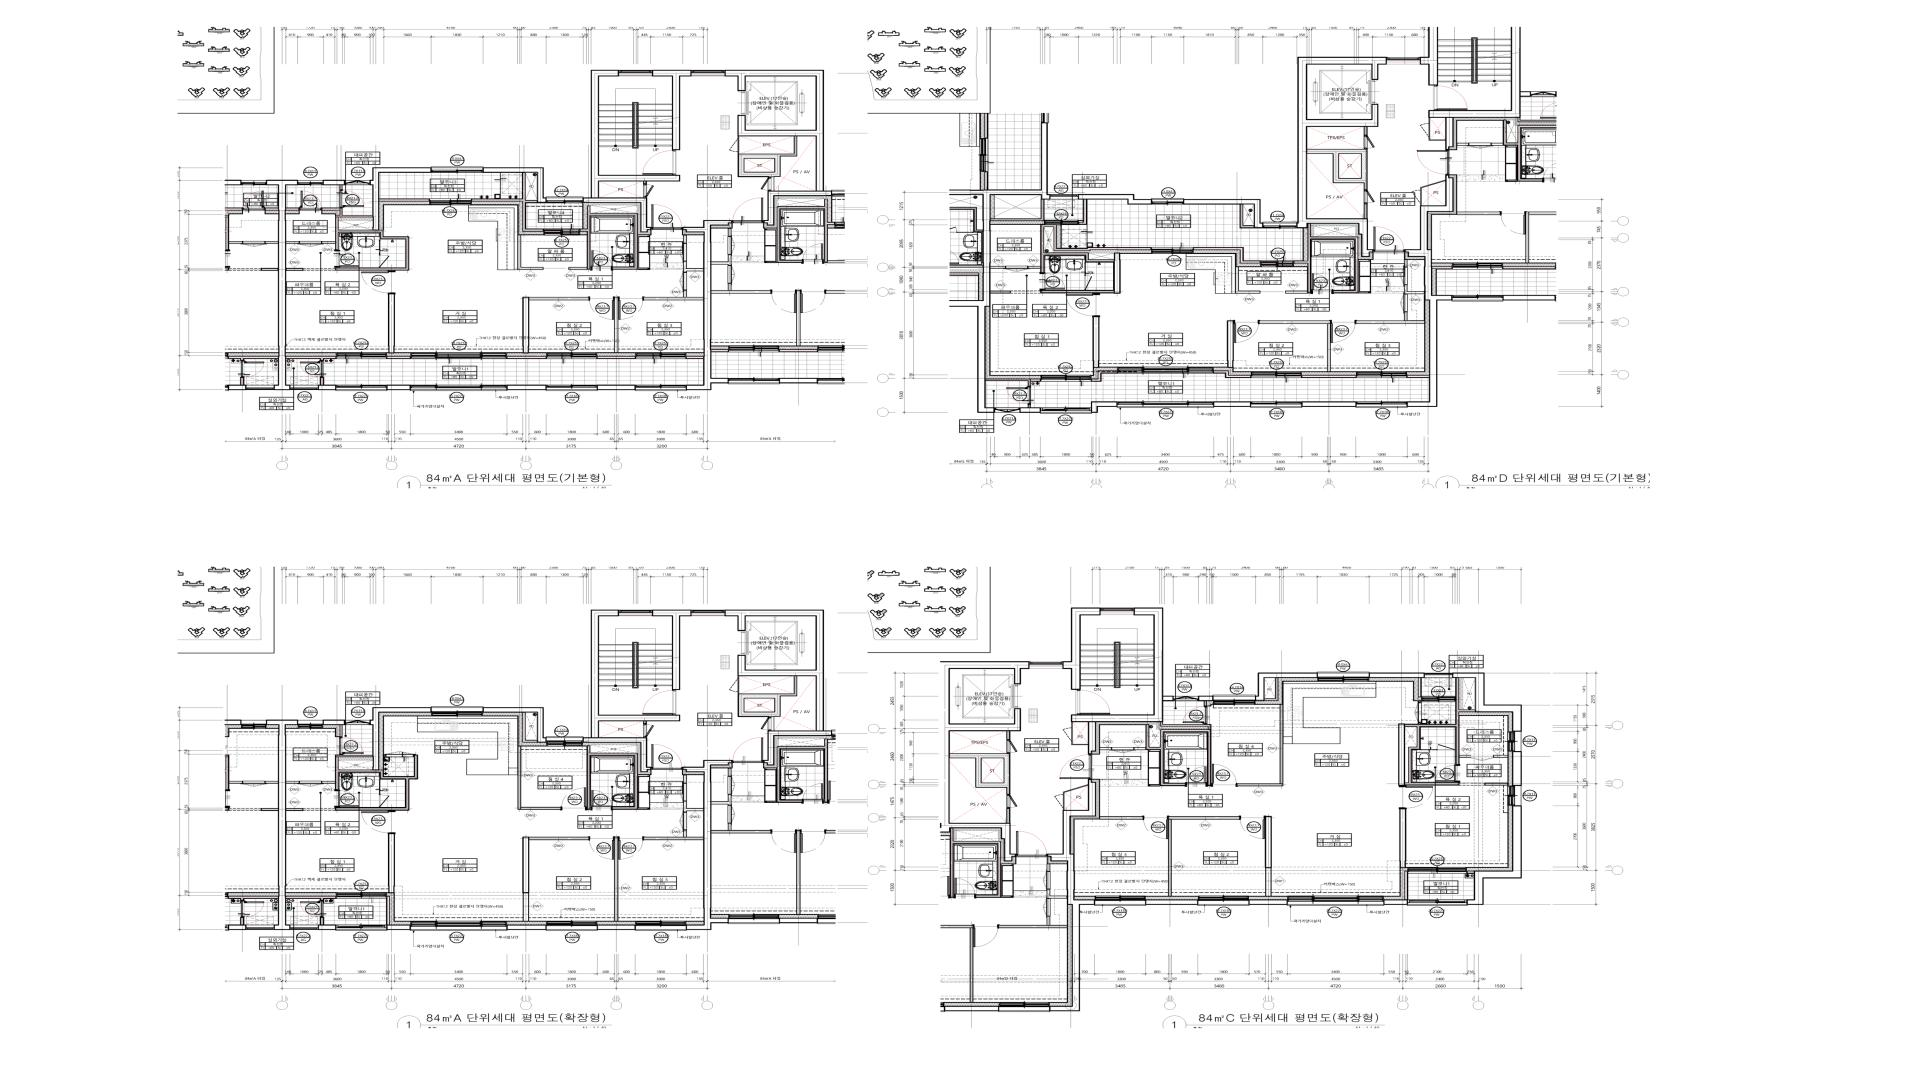door: (1433, 85, 1468, 110), (1076, 689, 1110, 714), (642, 150, 676, 175), (652, 742, 682, 770), (642, 691, 676, 715), (651, 204, 682, 230), (361, 811, 396, 834), (1067, 293, 1100, 317), (1399, 786, 1433, 809), (361, 271, 395, 294), (1374, 226, 1404, 252), (1060, 755, 1092, 779), (1234, 320, 1260, 344), (589, 836, 614, 860), (618, 837, 644, 860), (1212, 764, 1238, 787), (618, 297, 644, 320), (589, 297, 615, 320), (1331, 320, 1357, 343), (1240, 816, 1265, 839), (1143, 816, 1168, 839), (562, 788, 586, 810), (1435, 764, 1461, 783), (1185, 766, 1208, 787), (339, 189, 364, 208), (1006, 386, 1031, 405), (591, 250, 613, 271), (1311, 273, 1333, 294), (339, 737, 364, 755), (334, 250, 359, 268), (1039, 273, 1065, 290), (300, 190, 321, 211), (334, 790, 359, 807), (1183, 707, 1208, 724), (591, 790, 612, 810), (300, 361, 324, 377), (300, 901, 323, 917), (643, 182, 655, 198), (1414, 701, 1422, 724), (729, 676, 739, 694), (729, 136, 739, 154), (643, 721, 654, 737), (1364, 190, 1375, 204), (1364, 135, 1375, 149), (1006, 740, 1017, 753), (299, 781, 322, 787), (299, 241, 322, 247), (379, 795, 390, 807), (1471, 755, 1493, 761), (1112, 747, 1134, 753), (1006, 266, 1028, 272), (761, 717, 771, 730), (379, 255, 389, 267), (1437, 744, 1455, 750), (1085, 275, 1092, 290)
wall: (1297, 57, 1387, 257), (940, 662, 1029, 861), (725, 70, 832, 226), (725, 610, 832, 766), (977, 191, 1050, 413), (583, 70, 680, 232), (583, 610, 680, 772), (1071, 608, 1174, 755), (1428, 3, 1521, 150), (1404, 175, 1454, 407), (682, 760, 733, 930), (683, 220, 733, 390), (1405, 678, 1475, 786), (266, 180, 298, 390), (266, 720, 298, 930), (1047, 779, 1096, 905), (1168, 816, 1240, 896), (523, 837, 590, 921), (1467, 806, 1522, 905), (1040, 225, 1152, 273), (335, 755, 418, 811), (1294, 224, 1359, 294), (471, 173, 544, 232), (1452, 673, 1522, 732), (1146, 725, 1212, 786), (335, 217, 409, 271), (369, 168, 432, 231), (369, 707, 432, 770), (580, 205, 638, 270), (522, 297, 589, 353), (1237, 705, 1283, 786), (1260, 321, 1331, 372), (586, 746, 638, 810), (652, 70, 692, 150), (652, 610, 692, 690), (1062, 608, 1101, 690), (1420, 3, 1458, 85), (518, 746, 561, 810), (950, 753, 1010, 795), (1184, 199, 1264, 228), (483, 167, 547, 203), (482, 707, 546, 743), (1255, 673, 1318, 701), (991, 200, 1045, 221), (1193, 247, 1261, 263), (517, 235, 543, 270), (1356, 311, 1424, 324), (1078, 194, 1152, 205), (1235, 267, 1261, 294), (981, 758, 1004, 783), (1265, 817, 1272, 897), (644, 831, 704, 840), (644, 291, 703, 300), (1358, 259, 1371, 294), (522, 713, 537, 743), (388, 294, 395, 353), (388, 834, 395, 893), (1092, 317, 1100, 368), (986, 379, 1031, 387), (1160, 722, 1211, 729), (1400, 809, 1406, 867), (614, 837, 618, 921), (1227, 320, 1234, 368), (336, 208, 372, 217), (1091, 401, 1118, 413), (1265, 678, 1279, 701), (1240, 205, 1254, 228), (1513, 751, 1522, 786), (1091, 371, 1118, 382), (1114, 253, 1121, 294), (1369, 673, 1425, 678), (1301, 402, 1357, 407), (1213, 371, 1252, 378), (1145, 900, 1198, 905), (286, 896, 337, 901), (286, 356, 336, 361), (683, 801, 703, 813), (683, 261, 703, 273), (1079, 199, 1088, 225), (614, 297, 618, 353), (1040, 290, 1114, 293), (506, 925, 547, 930), (506, 385, 546, 390), (1248, 900, 1288, 905), (597, 385, 636, 390), (597, 925, 636, 930), (1213, 402, 1251, 407), (1404, 285, 1424, 294), (1301, 375, 1357, 378), (379, 199, 430, 202), (1100, 816, 1143, 819), (386, 385, 411, 390), (386, 925, 411, 930), (506, 356, 547, 359), (1384, 900, 1408, 905), (597, 356, 636, 359), (1405, 871, 1409, 900), (386, 896, 390, 925), (323, 720, 346, 725), (323, 180, 345, 185), (1019, 408, 1041, 413), (317, 385, 336, 390), (318, 925, 336, 930), (1198, 696, 1214, 701), (1418, 678, 1422, 697), (1006, 808, 1011, 823), (386, 356, 411, 359), (335, 755, 372, 757), (1485, 783, 1508, 786), (1285, 291, 1307, 294), (1407, 375, 1429, 378), (991, 291, 1011, 294), (568, 267, 587, 270), (321, 208, 340, 211), (685, 356, 703, 359), (286, 808, 303, 811), (286, 268, 303, 271), (1493, 755, 1508, 758), (1006, 731, 1011, 740), (991, 266, 1006, 269), (1459, 755, 1472, 758), (286, 781, 299, 784), (322, 781, 335, 784), (286, 241, 299, 244), (322, 241, 335, 244), (1134, 747, 1146, 750), (1099, 747, 1111, 750), (1028, 266, 1040, 269), (320, 917, 324, 925), (683, 775, 687, 783), (1404, 259, 1408, 267), (320, 377, 324, 385), (683, 235, 687, 243), (1031, 379, 1041, 382), (286, 208, 299, 210), (340, 725, 342, 737), (1467, 871, 1474, 874), (1204, 701, 1207, 706), (339, 185, 342, 189), (1028, 405, 1031, 408), (1079, 220, 1083, 222)
window: (411, 921, 507, 931), (1288, 896, 1384, 906), (1118, 367, 1213, 374), (411, 385, 506, 391), (411, 353, 506, 359), (1118, 402, 1213, 408), (1317, 671, 1369, 681), (1198, 896, 1249, 906), (432, 706, 482, 716), (636, 921, 686, 931), (547, 921, 597, 931), (1095, 896, 1145, 906), (1213, 695, 1255, 705), (1408, 899, 1467, 906), (547, 736, 583, 747), (1041, 375, 1091, 382), (1409, 868, 1467, 874), (337, 892, 386, 899), (337, 352, 386, 359), (547, 352, 596, 359), (636, 352, 685, 359), (1252, 371, 1301, 378), (546, 385, 597, 391), (432, 167, 483, 173), (1251, 402, 1302, 408), (336, 925, 386, 931), (336, 385, 386, 391), (636, 385, 686, 391), (1357, 402, 1407, 408), (1041, 408, 1091, 414), (1357, 372, 1406, 378), (1508, 732, 1522, 751), (1030, 661, 1063, 669), (1508, 786, 1521, 805), (430, 199, 471, 205), (1152, 248, 1193, 254), (1101, 608, 1134, 615), (1458, 3, 1491, 10), (1387, 57, 1420, 64), (298, 720, 323, 729), (544, 229, 579, 235), (547, 197, 582, 203), (1422, 696, 1456, 702), (1264, 222, 1297, 228), (1261, 261, 1294, 267), (1153, 198, 1183, 204), (1045, 220, 1079, 225), (290, 925, 318, 930), (1425, 673, 1452, 678), (291, 385, 317, 390), (298, 180, 323, 185), (1174, 696, 1198, 701), (995, 408, 1019, 413), (346, 720, 369, 725), (346, 180, 369, 185), (1051, 195, 1078, 199)
